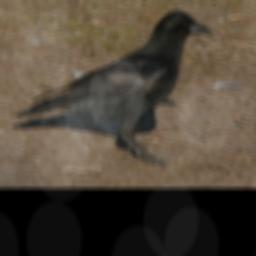Crow: (13, 8, 208, 166)
